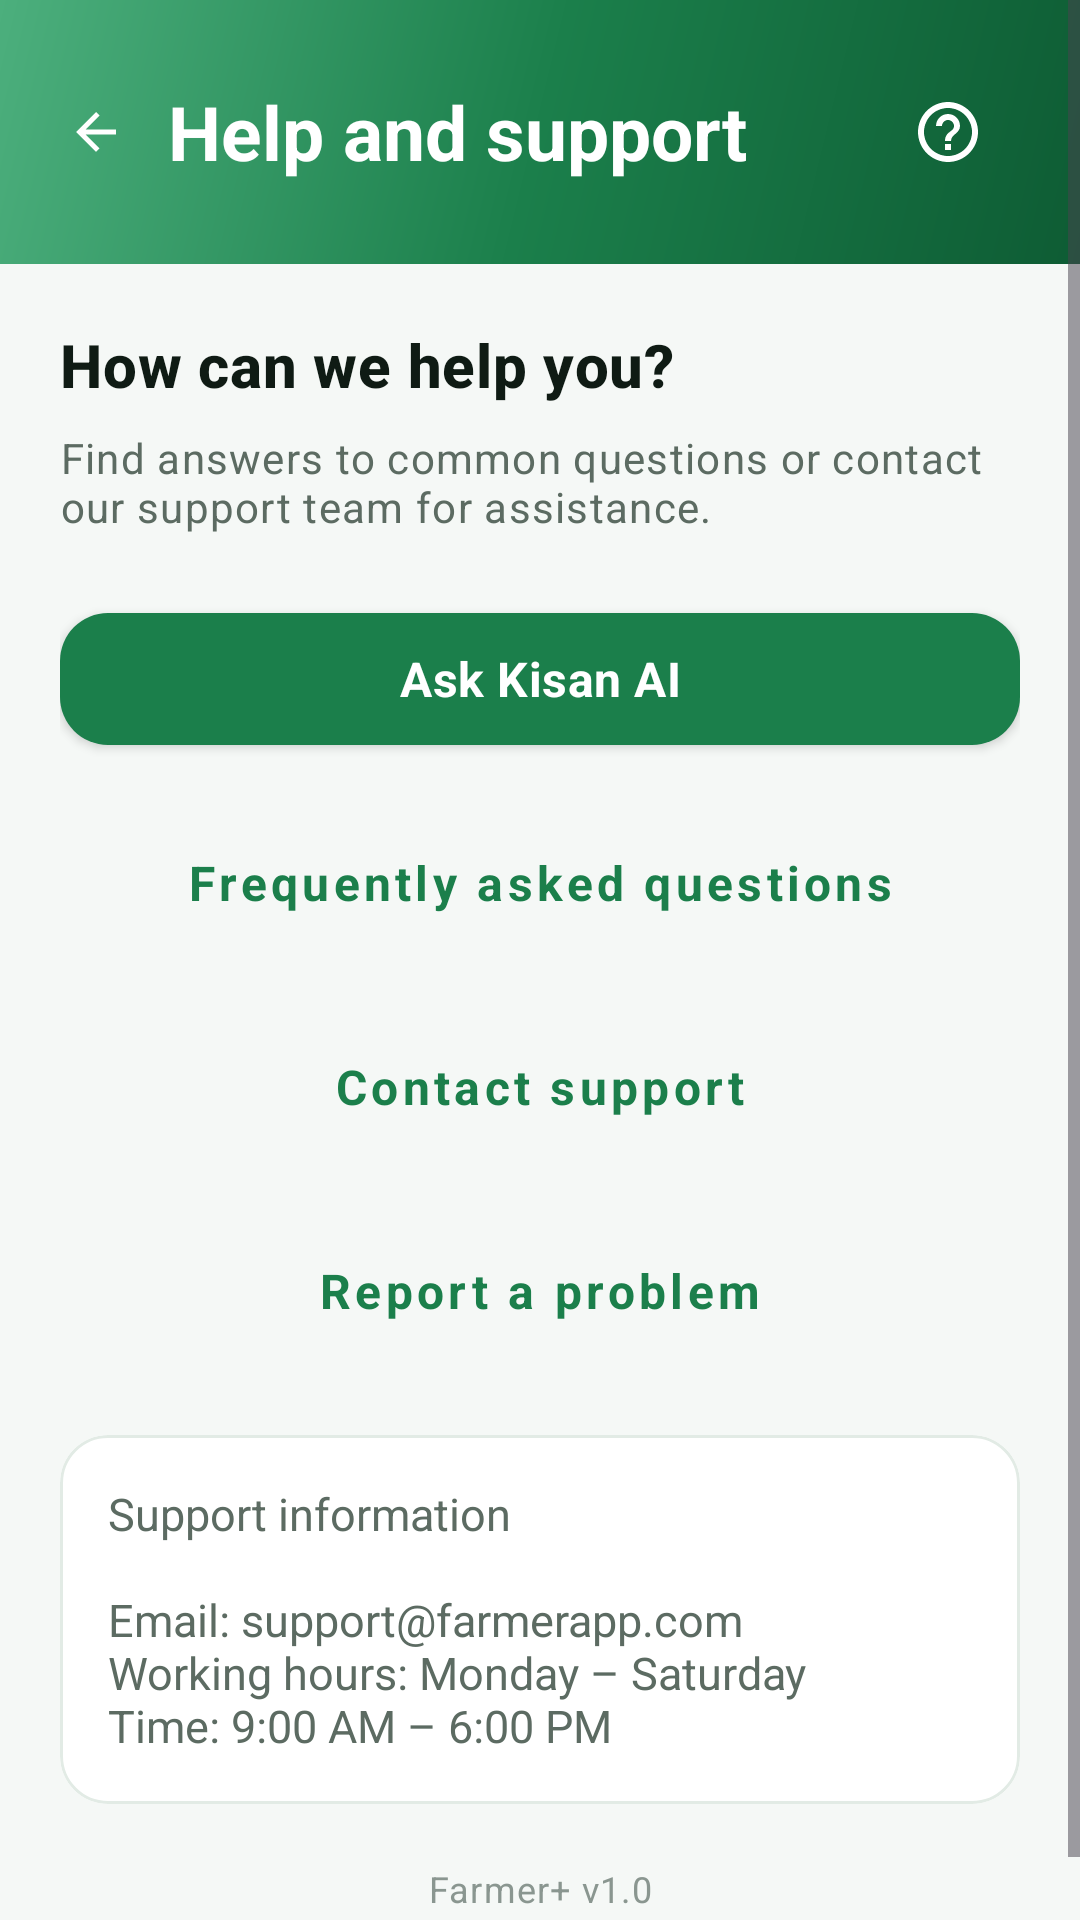

Where to tap for icons on this 1080*1920 app screen, as (x,y):
Navigate back: (96,132)
